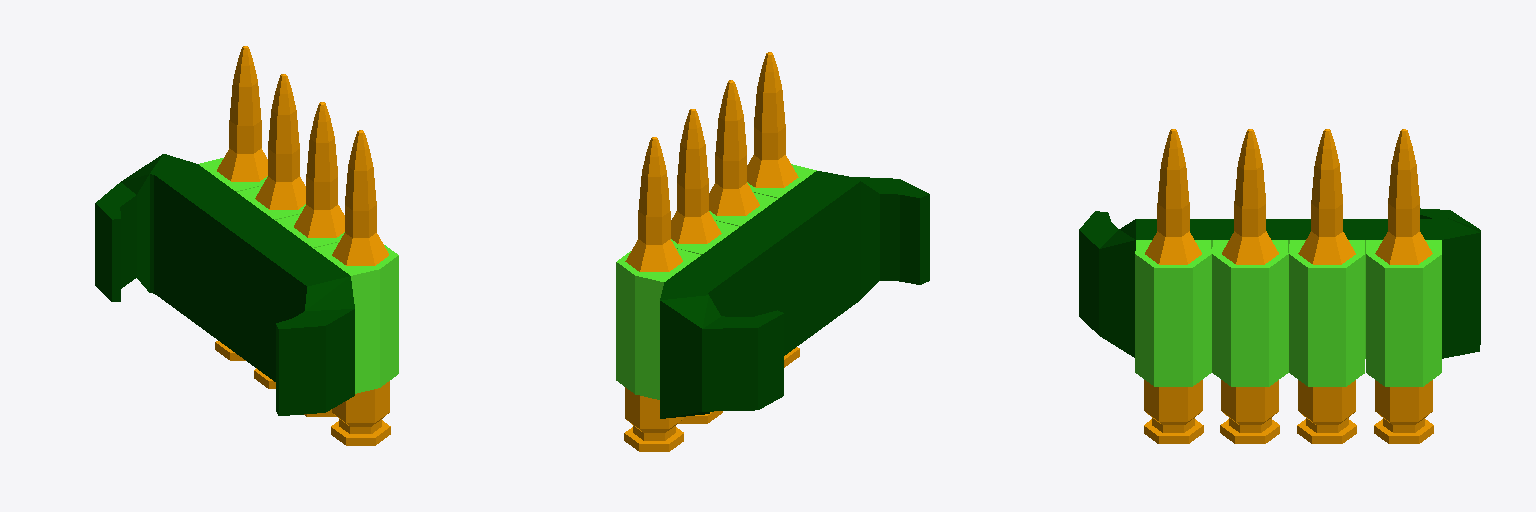
File: pickupAmmo.obj
3 renders of one model, left to right at view 1: azimuth 30°, elevation 25°; view 2: azimuth 150°, elevation 25°; view 3: azimuth 270°, elevation 25°, orthographic.
Visible parts, largest first — view 1: BulletCasingsInPocket_Circle.012; view 2: BulletCasingsInPocket_Circle.012; view 3: BulletCasingsInPocket_Circle.012.
Boxes of the visible parts, x1,y1,x2,y2 form: BulletCasingsInPocket_Circle.012: [95, 46, 398, 445]; BulletCasingsInPocket_Circle.012: [616, 52, 929, 451]; BulletCasingsInPocket_Circle.012: [1079, 129, 1480, 443].
Size of the model in its own units: 0.6716 by 1.22 by 1.46.